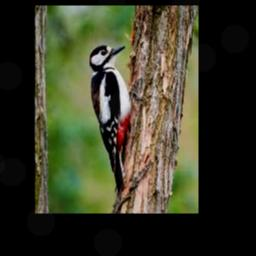Woodpecker: (89, 46, 131, 193)
